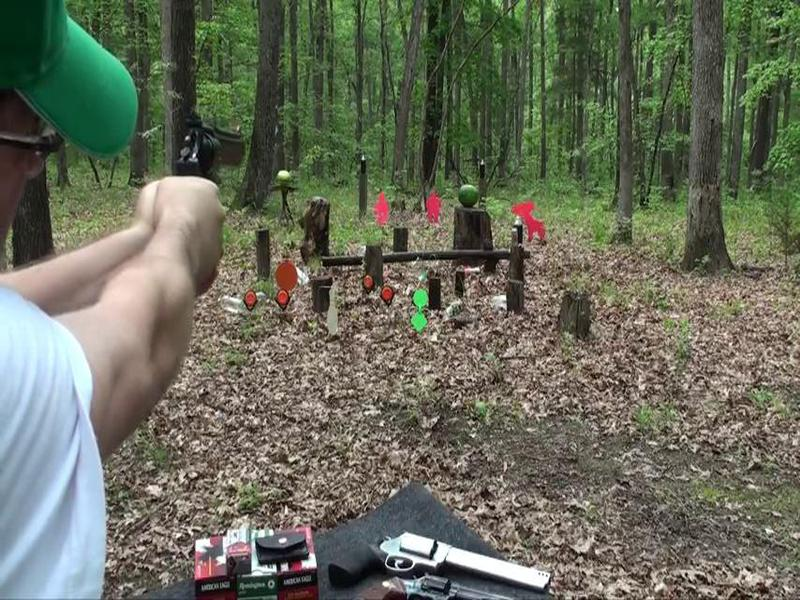Revolver: (160, 108, 267, 209)
